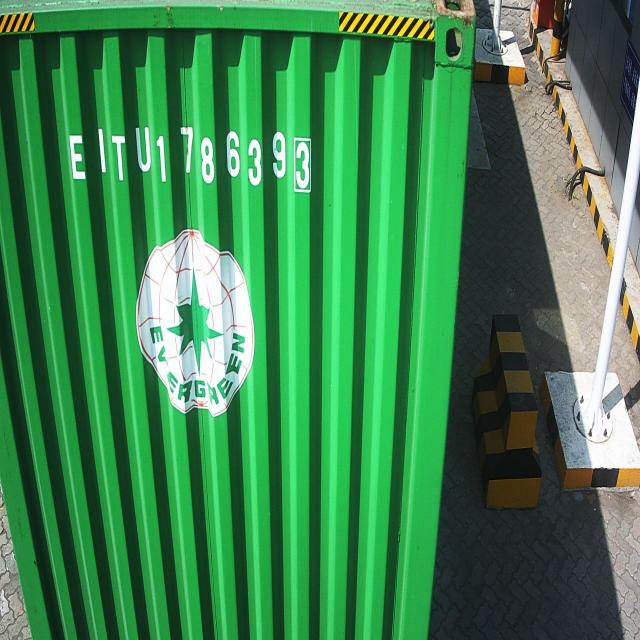container-number: (68, 116, 314, 197)
